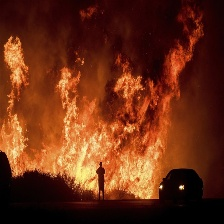fire: (52, 62, 164, 196), (2, 37, 35, 181), (166, 23, 199, 95)
smoke: (36, 1, 177, 56)
